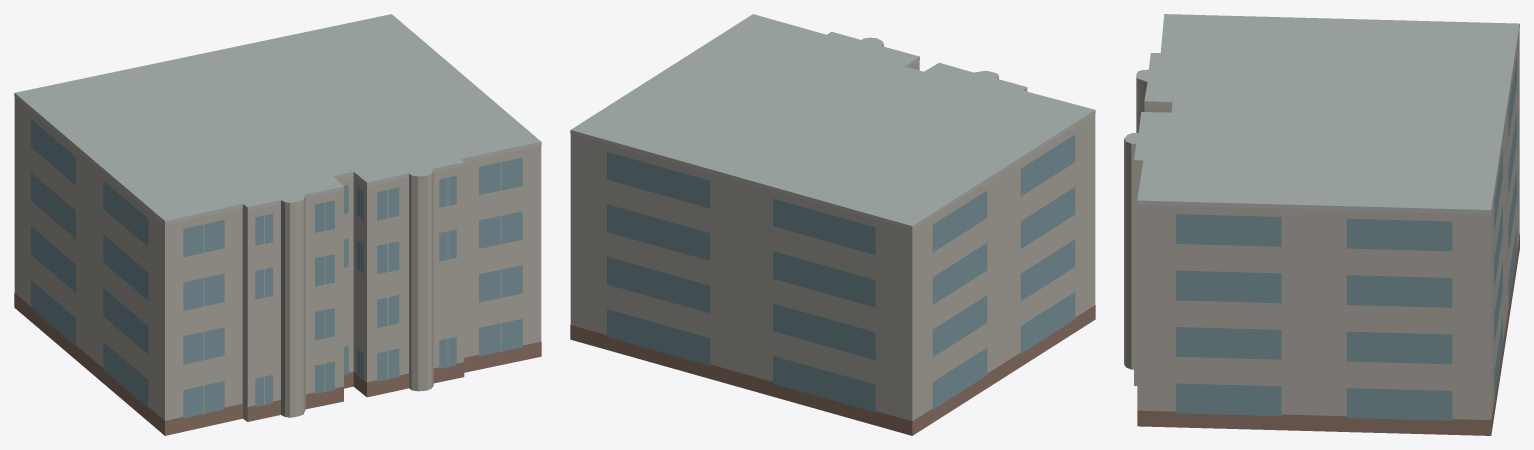
File: survey-upis-32841340.glb
The picture shows the model from 3 angles, left to right: view 1: azimuth 30°, elevation 25°; view 2: azimuth 150°, elevation 25°; view 3: azimuth 270°, elevation 25°; orthographic projection. The views are drawn at different scales.
Parts seen in each view (by area): view 1: survey-upis-32841340.tmp; view 2: survey-upis-32841340.tmp; view 3: survey-upis-32841340.tmp.
Boxes of the visible parts, x1,y1,x2,y2 form: survey-upis-32841340.tmp: (14,14,541,435); survey-upis-32841340.tmp: (570,14,1095,435); survey-upis-32841340.tmp: (1124,14,1519,435).
Bounding box in the file's own units: 24.96 × 13.4 × 21.28.
